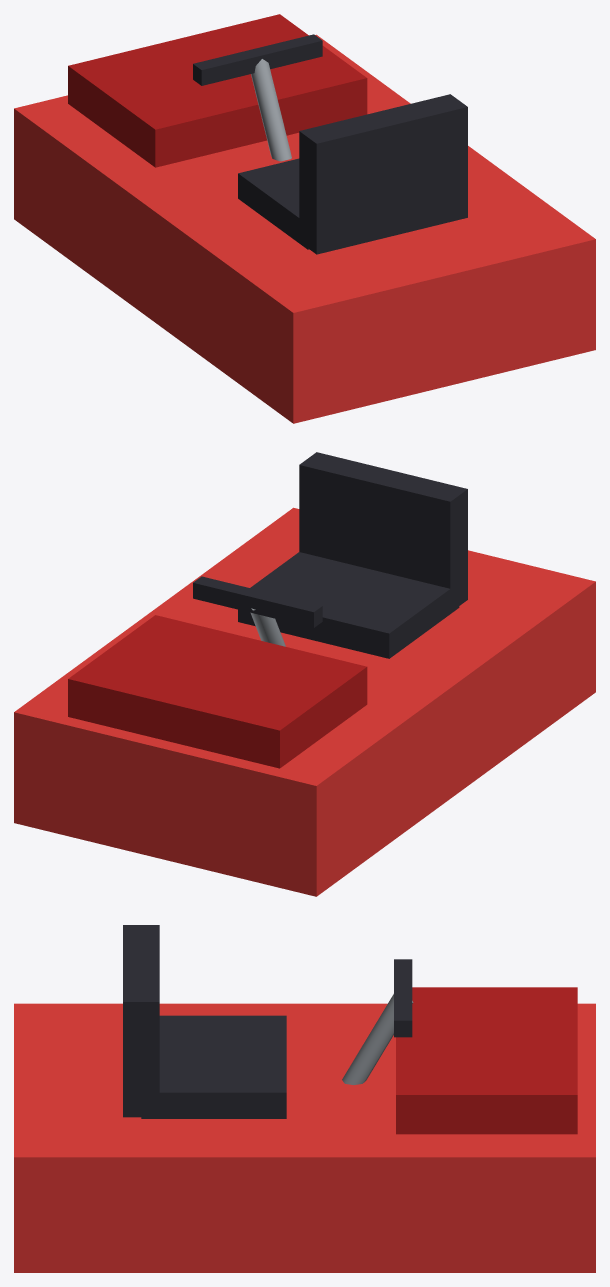
File: kart_classic.glb
3 renders of one model, top to bottom at view 1: azimuth 30°, elevation 25°; view 2: azimuth 150°, elevation 25°; view 3: azimuth 270°, elevation 25°, orthographic. The views are drawn at different scales.
Visible parts, largest first — view 1: kart_classic; view 2: kart_classic; view 3: kart_classic.
Part boxes in pixels (<box>): kart_classic: <box>14,14,595,423</box>; kart_classic: <box>14,452,595,896</box>; kart_classic: <box>14,925,595,1272</box>.
Bounding box in the file's own units: 1 × 0.705 × 1.6.
